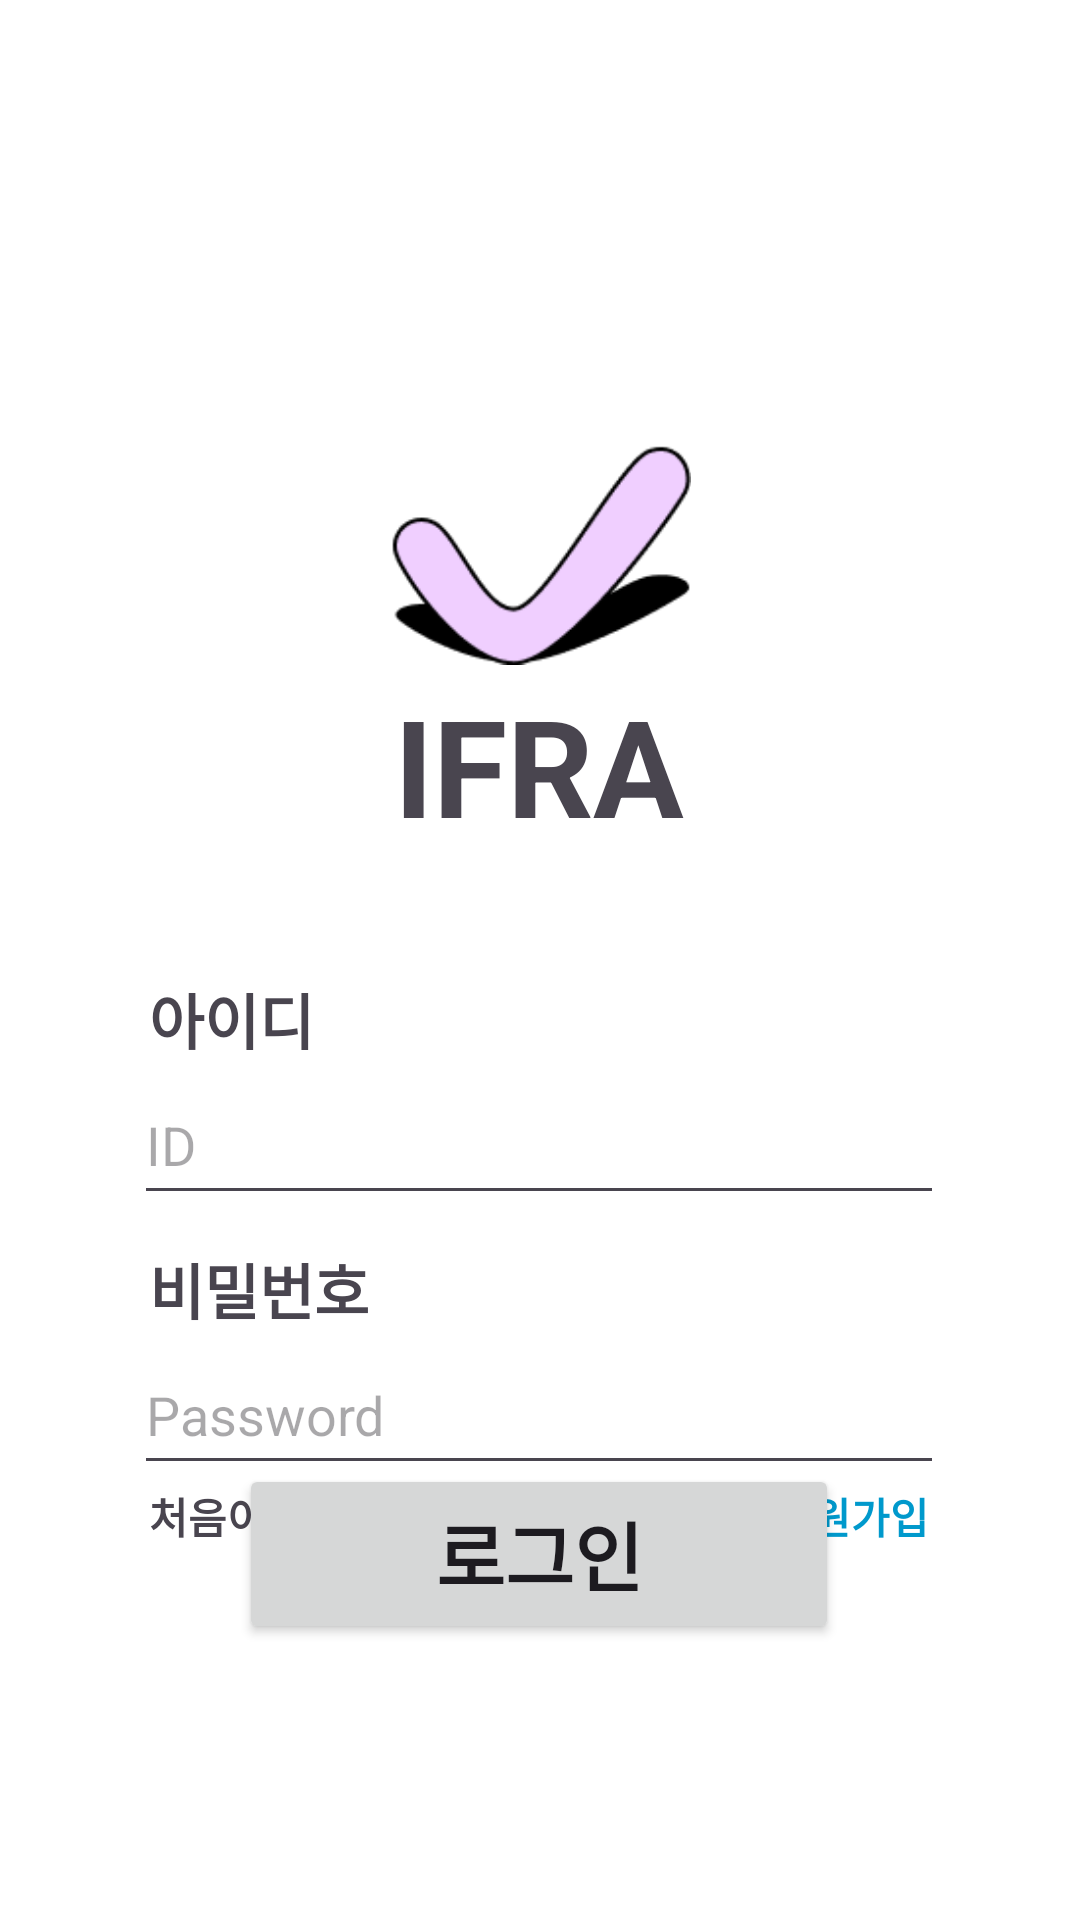

Where icons sit on this 1080 × 1920 app screen, as (x1, y1, x2, y2):
check: (392, 446, 691, 665)
